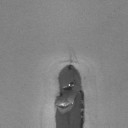slag inclusion: (54, 64, 85, 128)
